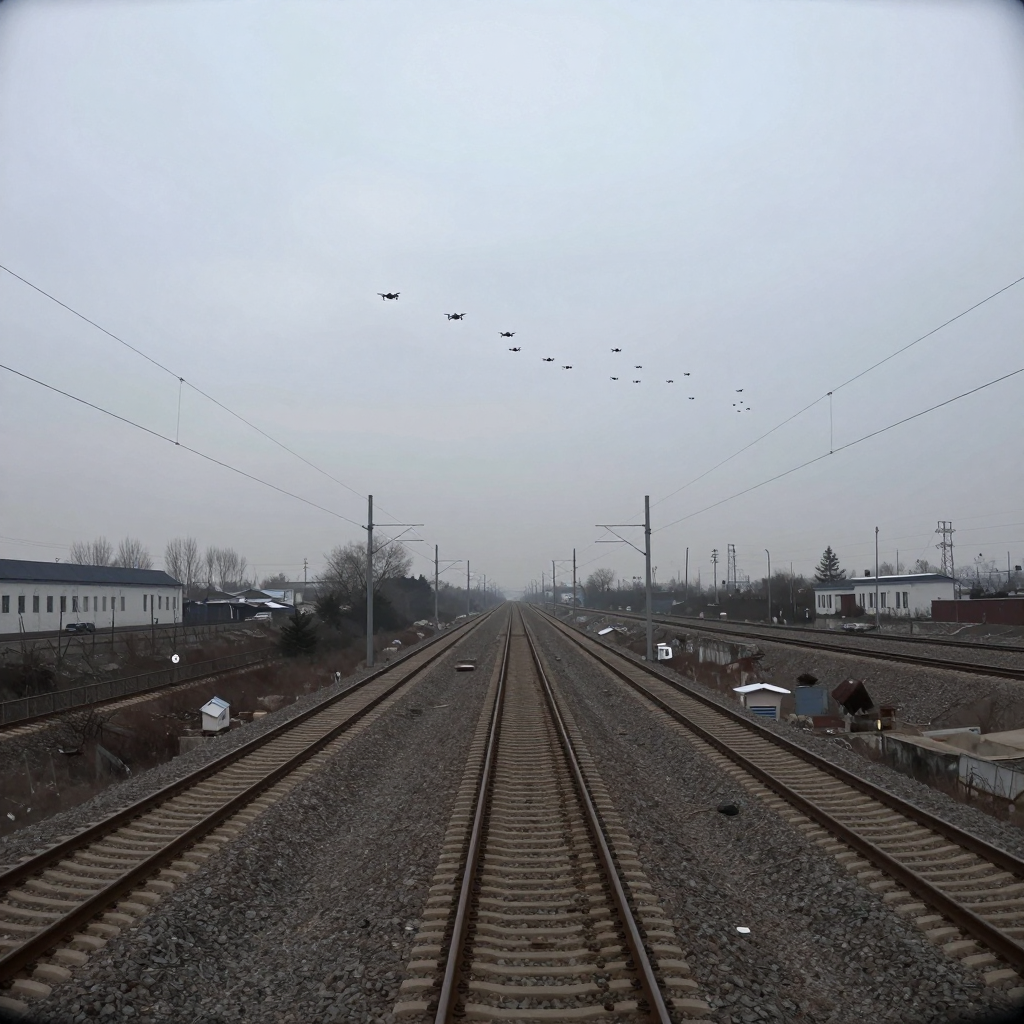drone: (377, 292, 401, 301), (443, 313, 467, 321), (497, 332, 512, 338), (508, 347, 522, 352), (541, 357, 555, 362), (561, 365, 573, 370), (611, 348, 622, 353), (607, 375, 618, 380), (632, 379, 643, 383), (666, 380, 674, 384), (512, 332, 517, 338), (683, 373, 691, 376), (635, 366, 643, 368), (508, 348, 512, 351)
